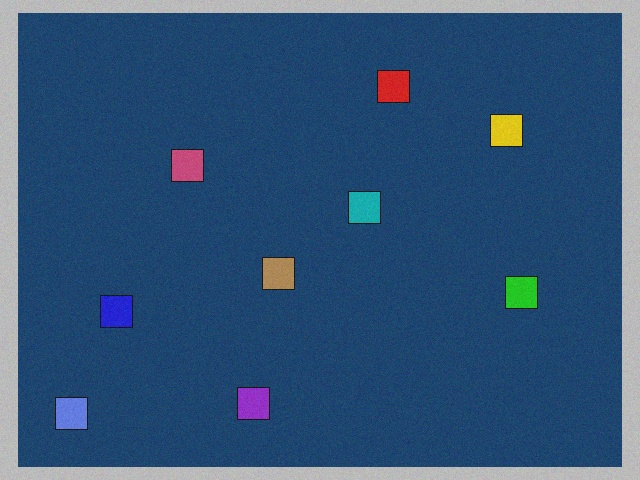block: (56, 389, 100, 429), (481, 115, 522, 152), (496, 274, 538, 308), (100, 293, 142, 327), (237, 379, 272, 419), (375, 70, 410, 110), (172, 150, 210, 185), (347, 191, 381, 224), (263, 257, 296, 290)
